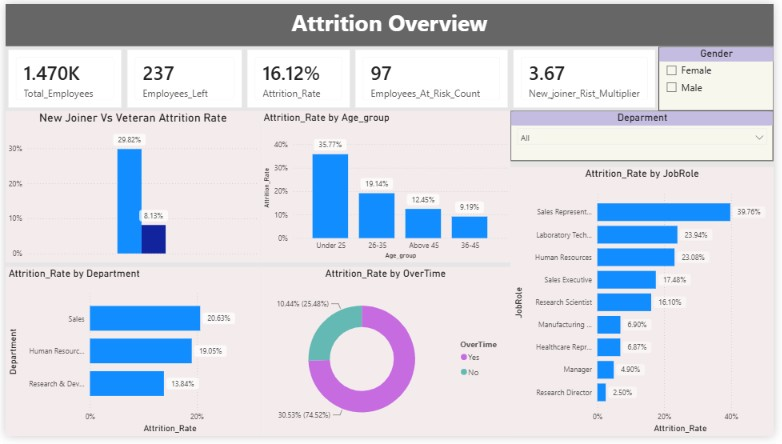

The page's visual inventory and layout, read from the dashboard file:
{"tool":"powerbi","page":{"name":"Hr Attrition Overview","canvas":[1280,720],"ordinal":0},"visuals":[{"type":"cardVisual","fields":{"Data":["Measures (3).Total_Employees"]},"box":[0,71.7,198.3,106.7],"z":0},{"type":"cardVisual","fields":{"Data":["Measures (3).Employees_Left"]},"box":[198.3,71.7,200,106.7],"z":1000},{"type":"cardVisual","fields":{"Data":["Measures (3).Attrition_Rate"]},"box":[398.3,71.7,180,106.7],"z":2000},{"type":"cardVisual","fields":{"Data":["Measures (3).Employees_At_Risk_Count"]},"box":[578.3,71.7,263.3,106.7],"z":3000},{"type":"clusteredBarChart","fields":{"Category":["Hr_Data.Department"],"Y":["Measures (3).Attrition_Rate"]},"box":[0,438.3,425,281.7],"z":4000},{"type":"clusteredBarChart","fields":{"Y":["Measures (3).Attrition_Rate"],"Category":["Hr_Data.JobRole"]},"box":[841.7,271.7,438.3,448.3],"z":5000},{"type":"donutChart","fields":{"Y":["Measures (3).Attrition_Rate"],"Category":["Hr_Data.OverTime"]},"box":[425,438.3,416.7,281.7],"z":6000},{"type":"lineClusteredColumnComboChart","title":"New Joiner Vs Veteran Attrition Rate","fields":{"Y":["Measures (3).New_Join_Attrition_Rate","Measures (3).Veteran_Attrition_Rate"]},"box":[0,178.3,425,251.7],"z":7000},{"type":"cardVisual","fields":{"Data":["Measures (3).New_joiner_Rist_Multiplier"]},"box":[841.7,71.7,246.7,106.7],"z":8000},{"type":"slicer","title":"Deparment","fields":{"Values":["Hr_Data.Department"]},"box":[842.1,178.6,437.9,83.2],"z":9000},{"type":"slicer","title":"Gender","fields":{"Values":["Hr_Data.Gender"]},"box":[1088.3,71.7,191.7,106.7],"z":10000},{"type":"textbox","box":[0,0,1280,70],"z":11000},{"type":"lineClusteredColumnComboChart","fields":{"Category":["Hr_Data.Age_group"],"Y":["Measures (3).Attrition_Rate"]},"box":[425,178.3,416.7,251.7],"z":12000}]}

Visuals, with their boxes in screenshot pixels (x1, y1, x2, y2), scaled from the page's 1280x720 canvas onto the 782x444 screenshot:
cardVisual - Measures (3).Total_Employees: pyautogui.locateOnScreen(0, 44, 121, 110)
cardVisual - Measures (3).Employees_Left: pyautogui.locateOnScreen(121, 44, 243, 110)
cardVisual - Measures (3).Attrition_Rate: pyautogui.locateOnScreen(243, 44, 353, 110)
cardVisual - Measures (3).Employees_At_Risk_Count: pyautogui.locateOnScreen(353, 44, 514, 110)
clusteredBarChart - Hr_Data.Department x Measures (3).Attrition_Rate: pyautogui.locateOnScreen(0, 270, 260, 443)
clusteredBarChart - Measures (3).Attrition_Rate x Hr_Data.JobRole: pyautogui.locateOnScreen(514, 168, 781, 443)
donutChart - Measures (3).Attrition_Rate x Hr_Data.OverTime: pyautogui.locateOnScreen(260, 270, 514, 443)
"New Joiner Vs Veteran Attrition Rate" lineClusteredColumnComboChart: pyautogui.locateOnScreen(0, 110, 260, 265)
cardVisual - Measures (3).New_joiner_Rist_Multiplier: pyautogui.locateOnScreen(514, 44, 665, 110)
"Deparment" slicer: pyautogui.locateOnScreen(514, 110, 781, 161)
"Gender" slicer: pyautogui.locateOnScreen(665, 44, 781, 110)
textbox: pyautogui.locateOnScreen(0, 0, 781, 43)
lineClusteredColumnComboChart - Hr_Data.Age_group x Measures (3).Attrition_Rate: pyautogui.locateOnScreen(260, 110, 514, 265)
